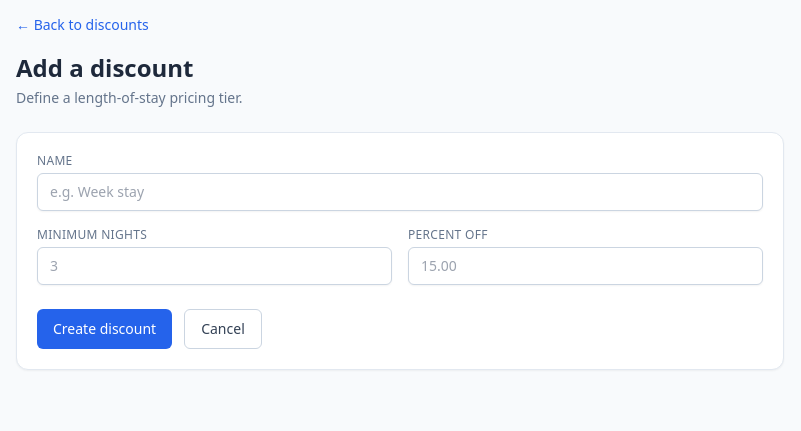
Test: Staff discount form › rejects a zero percent off and a min_nights below 1
Step 1. Type "Free" into the field labelled "Name" → (400, 192), box [37,173,763,211]
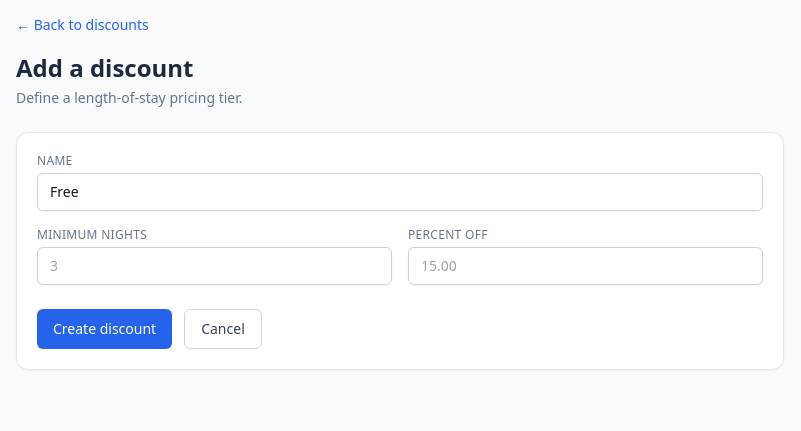
Step 2. Type "0" into the number field labelled "Minimum nights" → (214, 266), box [37,247,392,285]
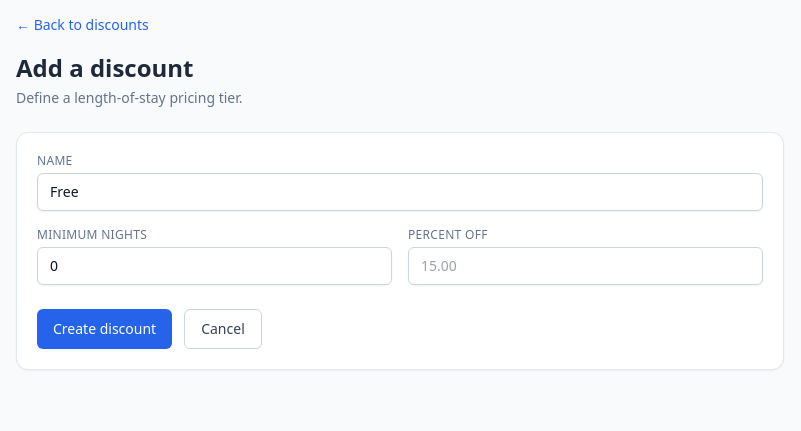
Step 3. Type "0" into the field labelled "Percent off" → (586, 266), box [408,247,763,285]
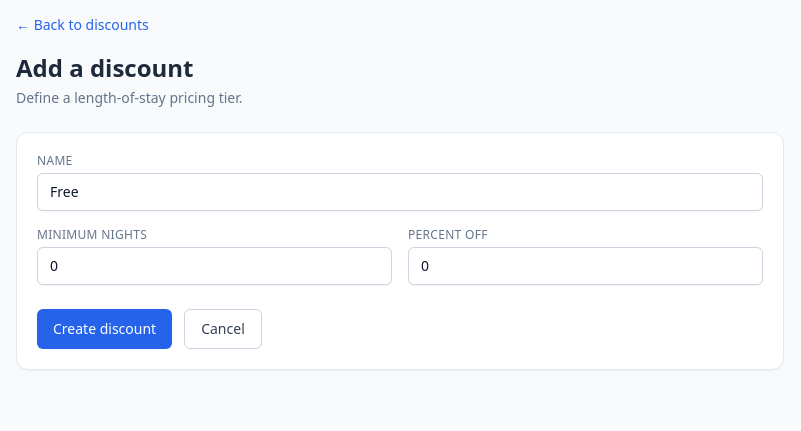
Step 4. Click the button "Create discount" → (105, 329), box [37,309,172,349]
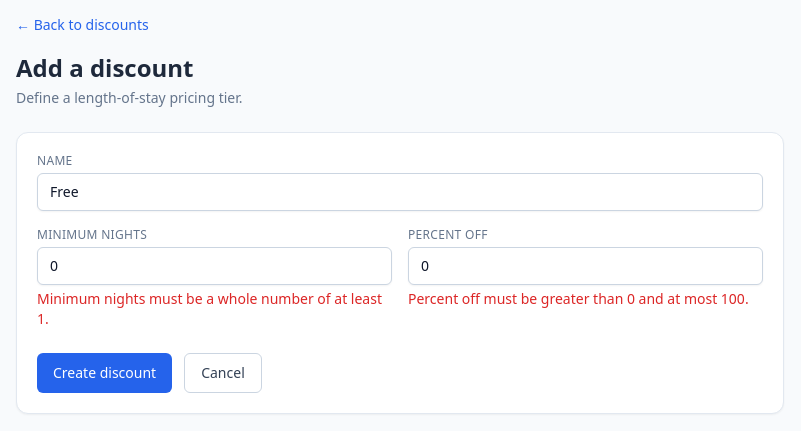
Result: the text "Minimum nights must be a whole number of at least 1." is shown at [37,289,392,329]
Result: the text "Percent off must be greater than 0 and at most 100." is shown at [408,289,763,309]
